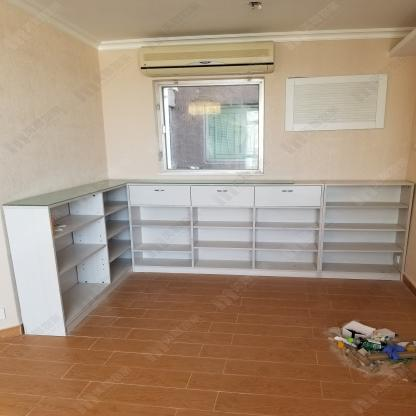AC: (139, 40, 274, 77)
Cupboard: (3, 179, 416, 337)
